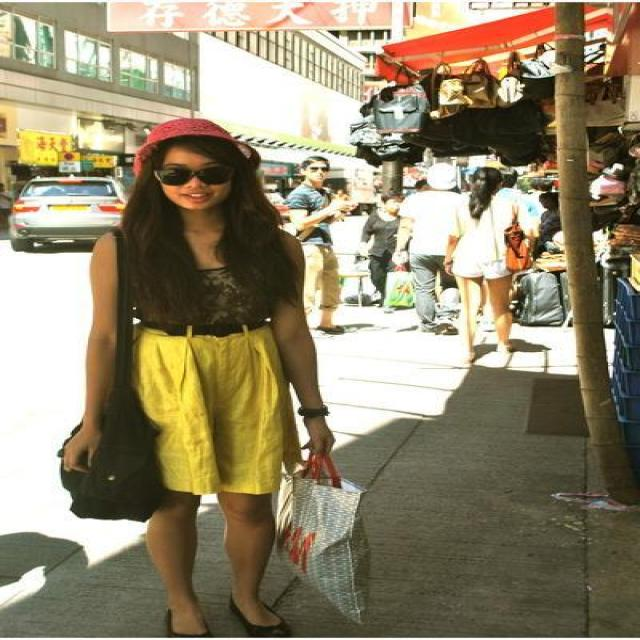bag: (269, 463, 389, 626)
shirt: (142, 251, 278, 368)
shoe: (232, 605, 286, 637)
skirt: (139, 330, 306, 498)
sunglass: (172, 161, 218, 185)
